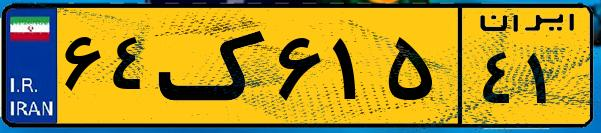1: (330, 28, 385, 110), (525, 38, 570, 115)
4: (475, 38, 525, 113), (110, 28, 158, 98)
5: (385, 28, 445, 110)
6: (270, 28, 330, 110), (57, 26, 110, 100)
ک: (158, 12, 270, 120)
